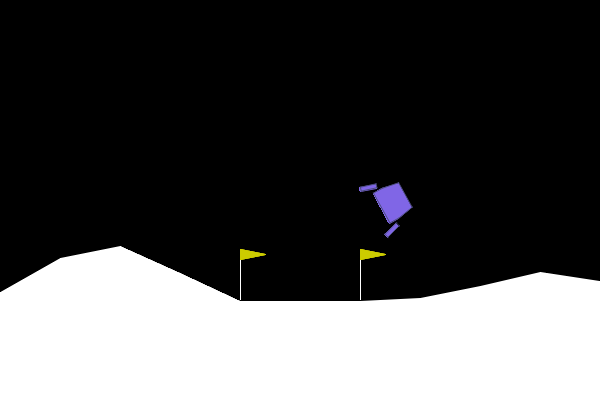lander: (357, 168, 421, 240)
